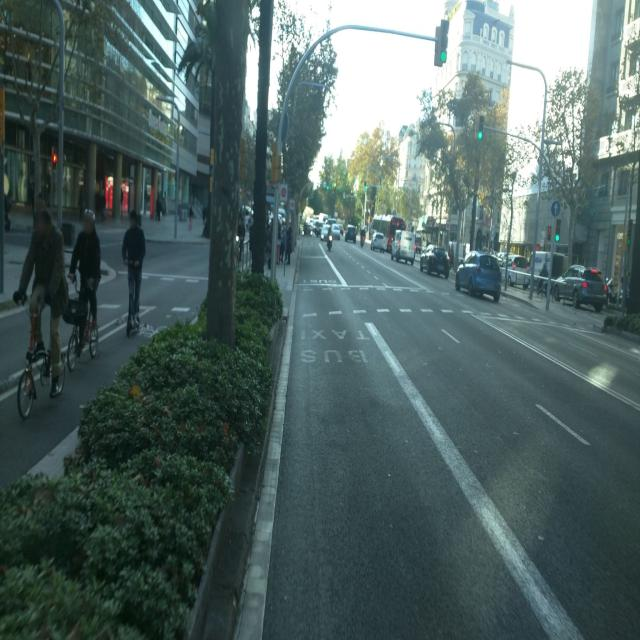bike: (12, 271, 72, 421), (63, 265, 106, 372)
car: (553, 264, 607, 312), (455, 251, 501, 301), (419, 244, 450, 278), (503, 255, 530, 287), (391, 230, 415, 265), (370, 232, 386, 252), (344, 225, 357, 243), (331, 224, 342, 239), (320, 225, 330, 241), (303, 222, 312, 236)
